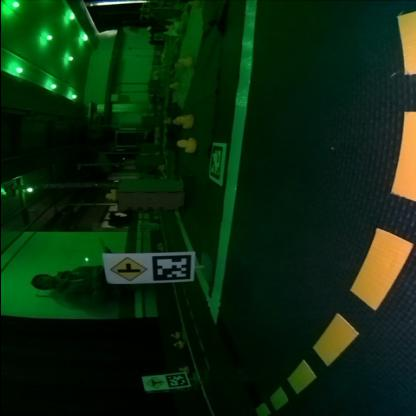Duckie: (175, 138, 196, 154), (174, 116, 192, 128), (176, 57, 192, 68), (172, 341, 182, 349), (176, 368, 188, 374), (169, 332, 179, 339), (168, 84, 178, 90)
Intersection sign: (108, 256, 144, 282), (144, 376, 163, 390)
QR code: (148, 259, 192, 283), (207, 142, 225, 186), (164, 372, 186, 388)
